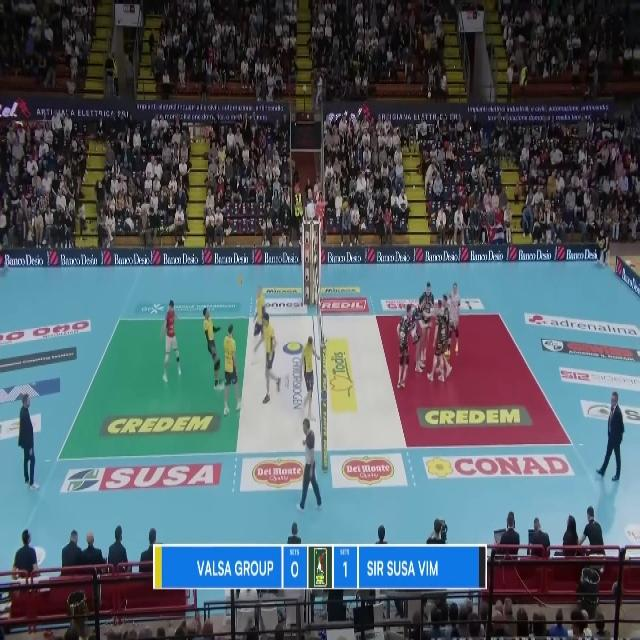volleyball court: (55, 309, 572, 459)
